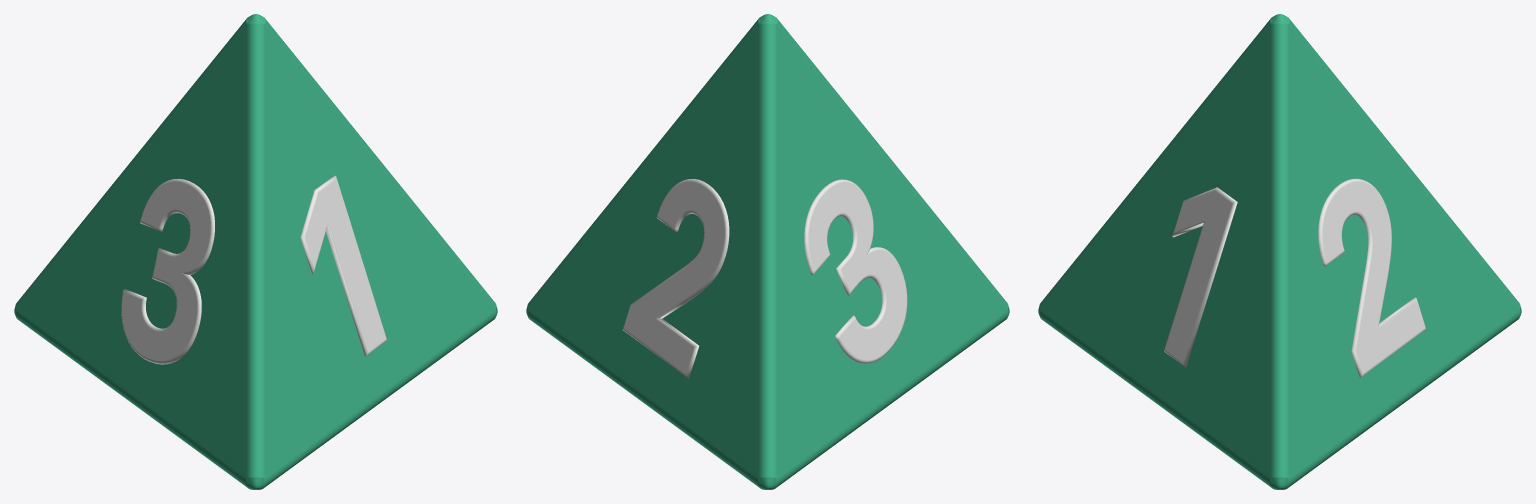
3 renders of one model, left to right at view 1: azimuth 30°, elevation 25°; view 2: azimuth 150°, elevation 25°; view 3: azimuth 270°, elevation 25°, orthographic.
Visible parts, largest first — view 1: D4, Text.040, Text.049; view 2: D4, Text.040, Text.008; view 3: D4, Text.008, Text.049.
Part boxes in pixels (box(x1,y1,x2,y2)): D4: box(14, 14, 497, 489); Text.040: box(121, 179, 214, 364); Text.049: box(300, 175, 386, 356); D4: box(526, 14, 1009, 489); Text.040: box(804, 179, 907, 363); Text.008: box(622, 179, 729, 378); D4: box(1038, 14, 1521, 489); Text.008: box(1318, 178, 1425, 377); Text.049: box(1164, 187, 1237, 367).
Bounding box in the file's own units: 1.34 × 1.53 × 1.28.
